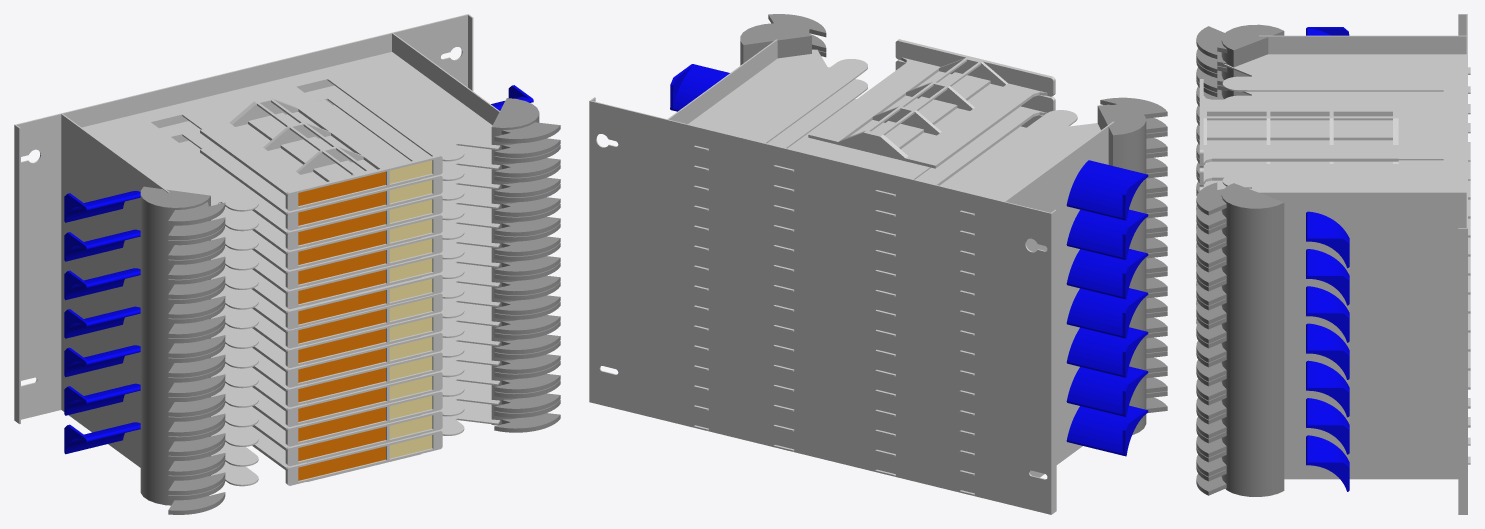
The model's file is Chassis-LISA-PATCH-7U.glb.
The picture shows the model from 3 angles, left to right: view 1: azimuth 30°, elevation 25°; view 2: azimuth 150°, elevation 25°; view 3: azimuth 270°, elevation 25°; orthographic projection. The views are drawn at different scales.
Visible parts, largest first — view 1: Geom3D_ (×58), Geom3D_drawer (×15), Geom3D_Patch cassette (×15), Geom3D (×30); view 2: Geom3D_ (×16), Geom3D_drawer (×2), Geom3D_Patch cassette (×2); view 3: Geom3D_ (×46), Geom3D_drawer (×2), Geom3D_Patch cassette (×2).
Part boxes in pixels (<box>): Geom3D_ (×58): <box>14,14,560,514</box>; Geom3D_drawer (×15): <box>82,52,500,486</box>; Geom3D_Patch cassette (×15): <box>200,97,442,485</box>; Geom3D (×30): <box>298,160,432,480</box>; Geom3D_ (×16): <box>589,14,1167,514</box>; Geom3D_drawer (×2): <box>688,49,1100,235</box>; Geom3D_Patch cassette (×2): <box>808,39,1055,185</box>; Geom3D_ (×46): <box>1196,14,1467,514</box>; Geom3D_drawer (×2): <box>1207,54,1470,217</box>; Geom3D_Patch cassette (×2): <box>1199,79,1398,186</box>.
Bounding box in the file's own units: 0.5101 × 0.3127 × 0.2688.
